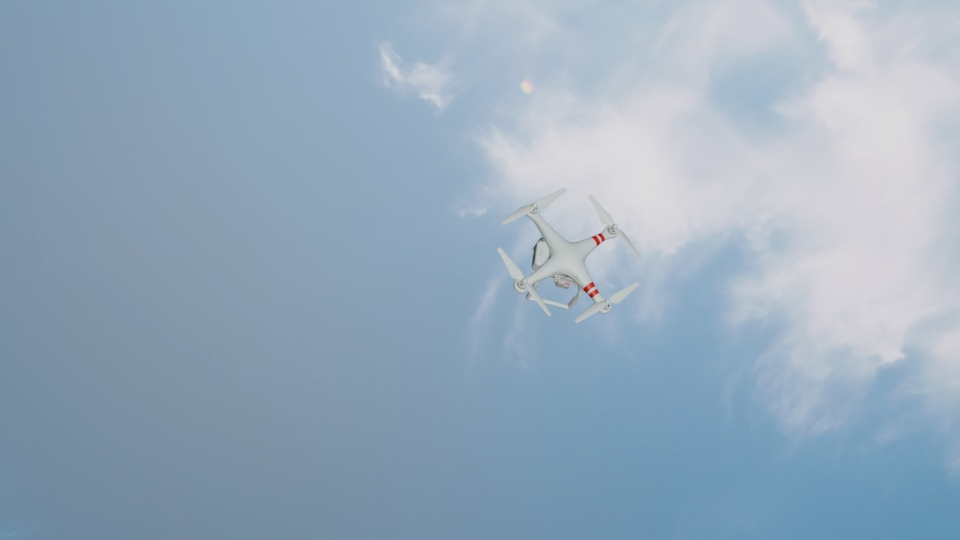drone: (499, 186, 642, 324)
